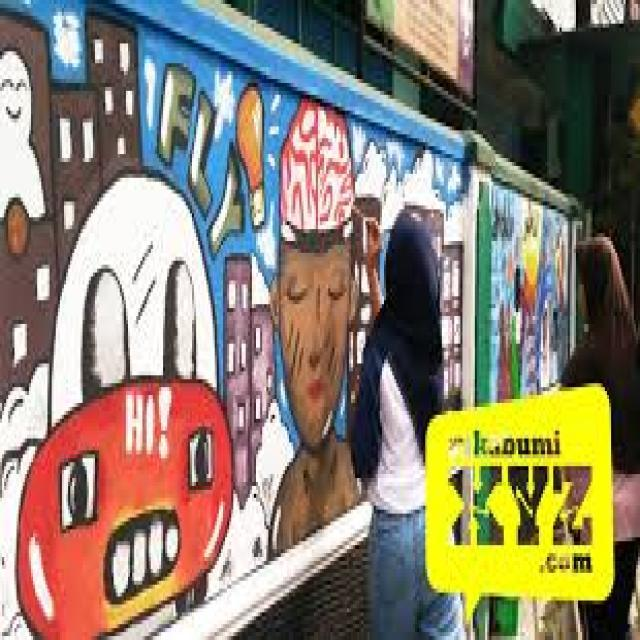-: (1, 1, 464, 640), (493, 182, 571, 390)
